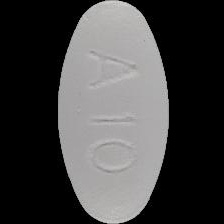33261-959: (0, 0, 224, 224)
